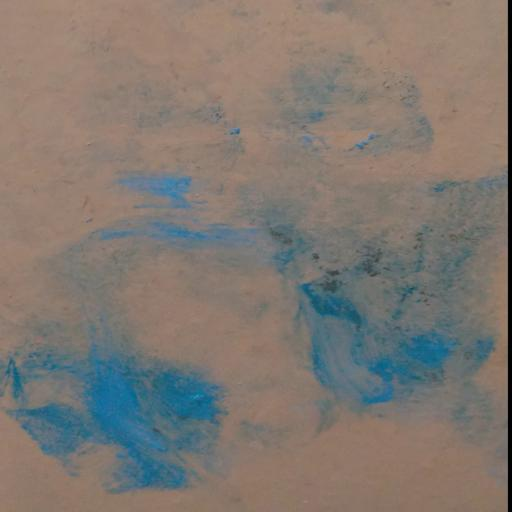stain: (2, 116, 512, 506), (54, 5, 451, 166)
